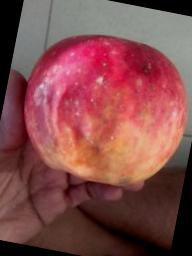Apple Overripe: (5, 14, 192, 203)
